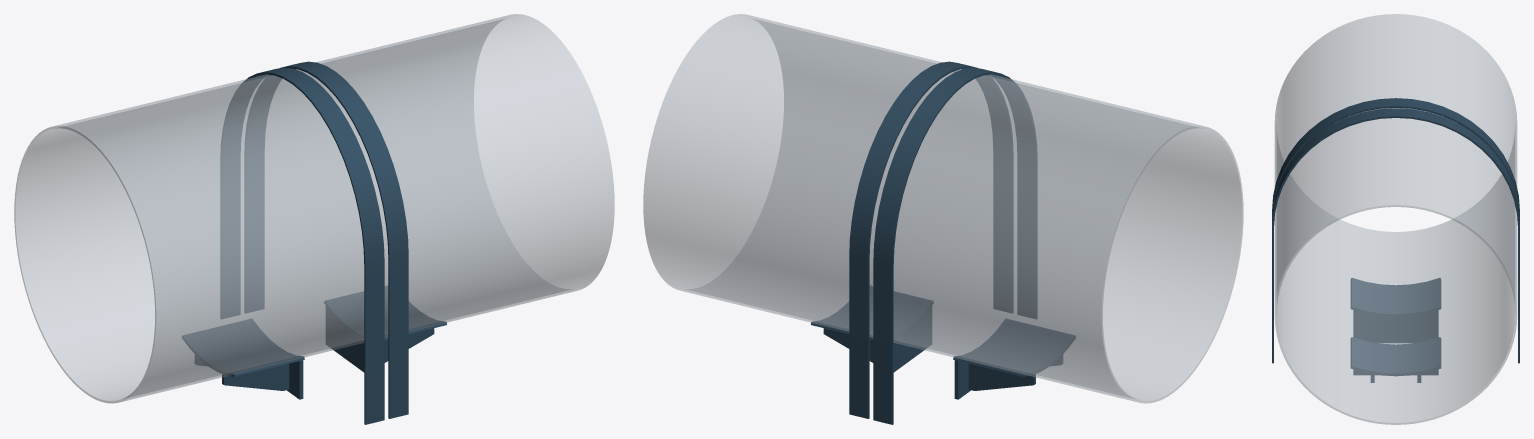
File: TS-669.00.00-27-opora-dn1020-ris2.glb
3 views of the same model, side by side, from view 1: azimuth 30°, elevation 25°; view 2: azimuth 150°, elevation 25°; view 3: azimuth 270°, elevation 25° (orthographic). The views are drawn at different scales.
Visible parts, largest first — view 1: truba, homut_10, homut_9, upor_8, upor_4, upor_1, upor_6; view 2: truba, homut_10, homut_9, upor_8, upor_4, upor_1, upor_7; view 3: truba, homut_9, upor_4, upor_8, homut_10, upor_5.
Boxes of the visible parts, box(x1,y1,x2,y2) form: truba: box(14, 14, 614, 403); homut_10: box(220, 67, 384, 424); homut_9: box(244, 61, 408, 418); upor_8: box(182, 319, 304, 376); upor_4: box(324, 286, 446, 339); upor_1: box(326, 306, 364, 372); upor_6: box(222, 363, 289, 390); truba: box(643, 14, 1243, 403); homut_10: box(873, 67, 1037, 424); homut_9: box(849, 61, 1013, 418); upor_8: box(953, 319, 1075, 376); upor_4: box(811, 286, 933, 339); upor_1: box(893, 306, 931, 372); upor_7: box(968, 363, 1035, 390); truba: box(1274, 14, 1517, 424); homut_9: box(1272, 108, 1519, 363); upor_4: box(1350, 337, 1441, 376); upor_8: box(1350, 278, 1441, 316); homut_10: box(1272, 98, 1519, 218); upor_5: box(1353, 310, 1438, 343).
Size of the model in its own units: 1900 by 1166 by 1042.
